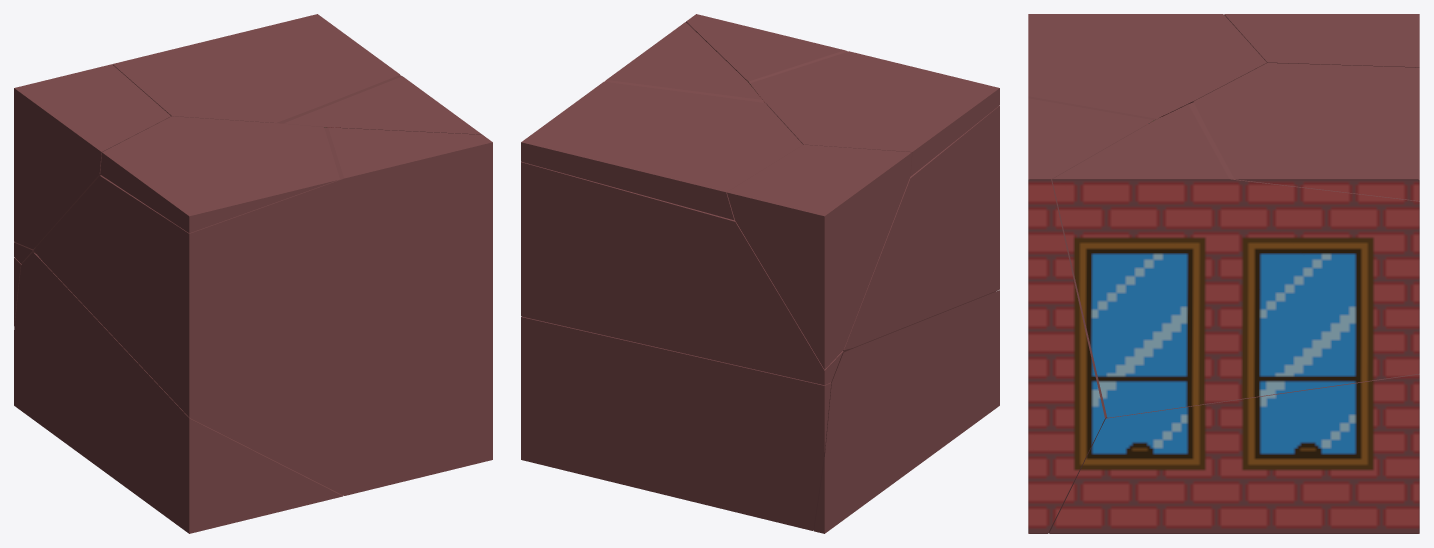
File: BrickBuildingRed128x128_Floor02_break.fbx
3 views of the same model, side by side, from view 1: azimuth 30°, elevation 25°; view 2: azimuth 150°, elevation 25°; view 3: azimuth 270°, elevation 25° (orthographic). The views are drawn at different scales.
Visible parts, largest first — view 1: Floor02Break03, Floor02Break02, Floor02Break04, Floor02Break07, Floor02Break05, Floor02Break06; view 2: Floor02Break06, Floor02Break01, Floor02Break02, Floor02Break03, Floor02Break05, Floor02Break07, Floor02Break04; view 3: Floor02Break06, Floor02Break01, Floor02Break07, Floor02Break03, Floor02Break04, Floor02Break05.
Boxes of the visible parts, x1,y1,x2,y2 form: Floor02Break03: [33, 127, 492, 495]; Floor02Break02: [14, 252, 342, 533]; Floor02Break04: [100, 116, 339, 233]; Floor02Break07: [112, 14, 399, 122]; Floor02Break05: [14, 64, 170, 249]; Floor02Break06: [14, 75, 481, 263]; Floor02Break06: [521, 22, 843, 385]; Floor02Break01: [521, 316, 831, 530]; Floor02Break02: [813, 290, 999, 533]; Floor02Break03: [686, 14, 999, 352]; Floor02Break05: [727, 144, 911, 369]; Floor02Break07: [521, 81, 802, 220]; Floor02Break04: [750, 51, 999, 176]; Floor02Break06: [1052, 102, 1419, 417]; Floor02Break01: [1049, 373, 1419, 533]; Floor02Break07: [1193, 63, 1419, 200]; Floor02Break03: [1028, 96, 1161, 533]; Floor02Break04: [1028, 14, 1266, 118]; Floor02Break05: [1224, 14, 1419, 67].
Bounding box in the file's own units: 100 × 100 × 100.
Materials: 1 (1 with a texture image).
